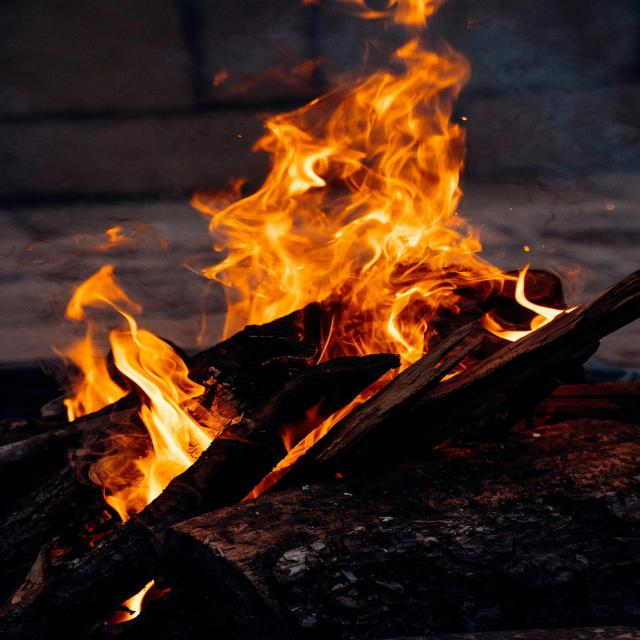fire: (18, 217, 237, 523), (180, 169, 516, 337), (214, 0, 470, 170), (232, 340, 485, 501), (507, 264, 577, 342), (103, 579, 155, 623)
